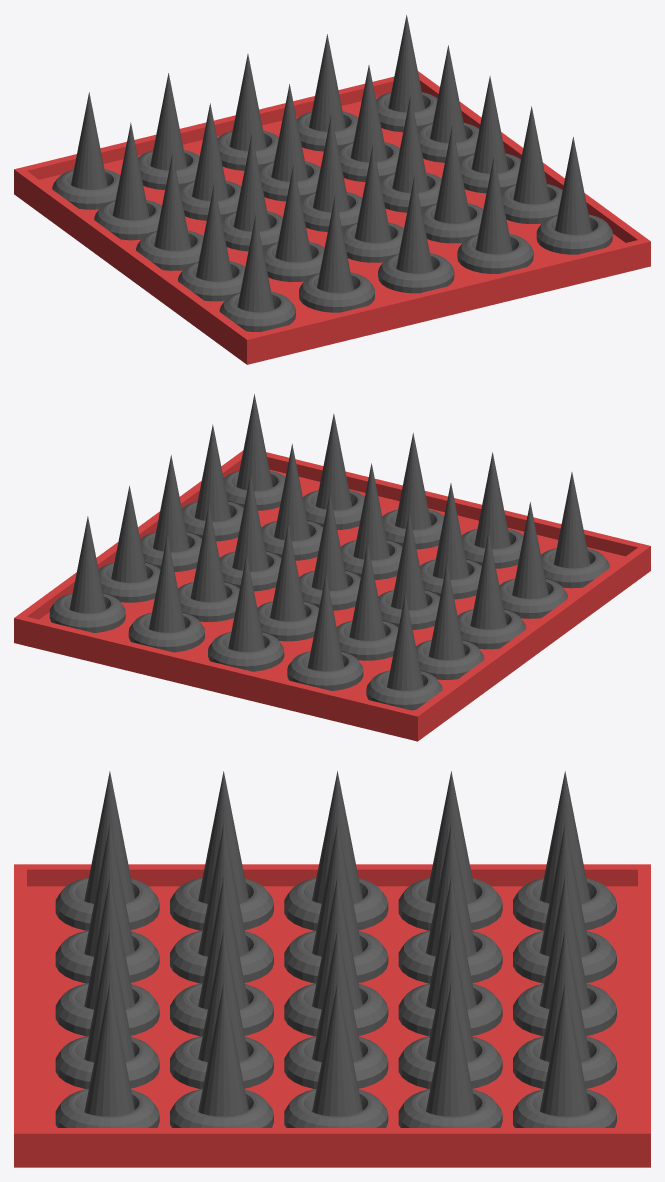
The model's file is Spikes.fbx.
3 views of the same model, one above another, from view 1: azimuth 30°, elevation 25°; view 2: azimuth 150°, elevation 25°; view 3: azimuth 270°, elevation 25° (orthographic). The views are drawn at different scales.
Visible parts, largest first — view 1: Cone; view 2: Cone; view 3: Cone.
Boxes of the visible parts, <box> form: Cone: <box>14,15,650,364</box>; Cone: <box>14,394,650,741</box>; Cone: <box>14,771,650,1167</box>.
Size of the model in its own units: 200 by 54.44 by 200.
